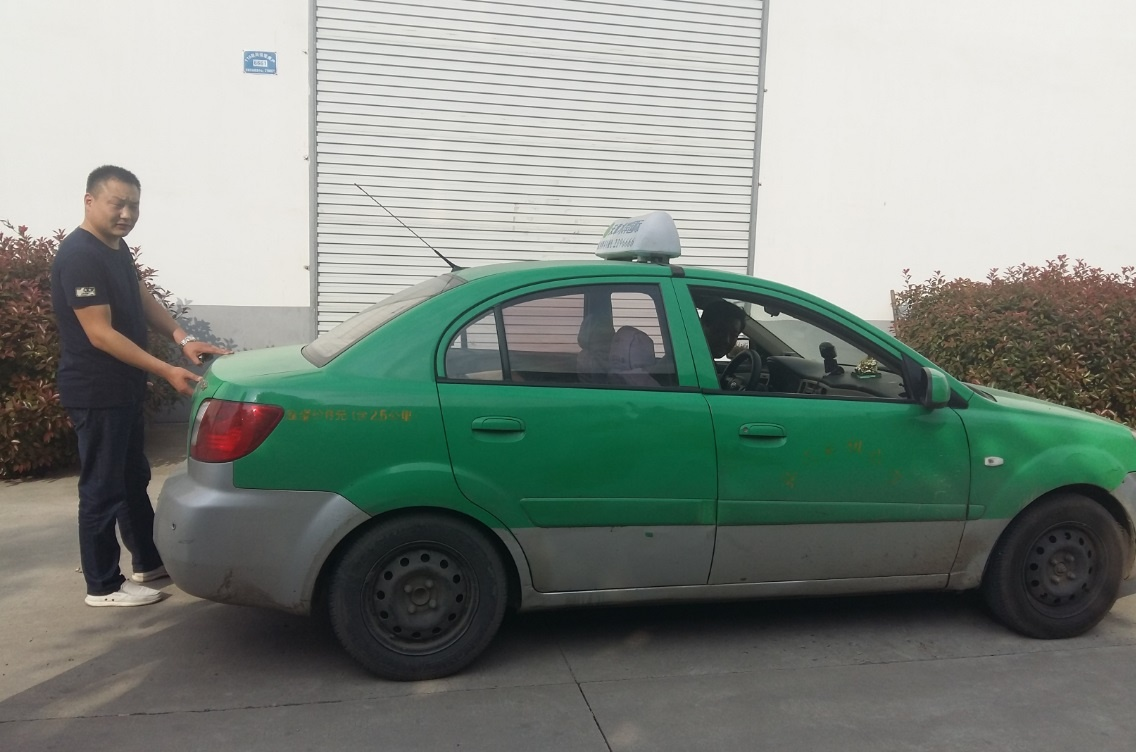taxi: (194, 228, 1136, 661)
